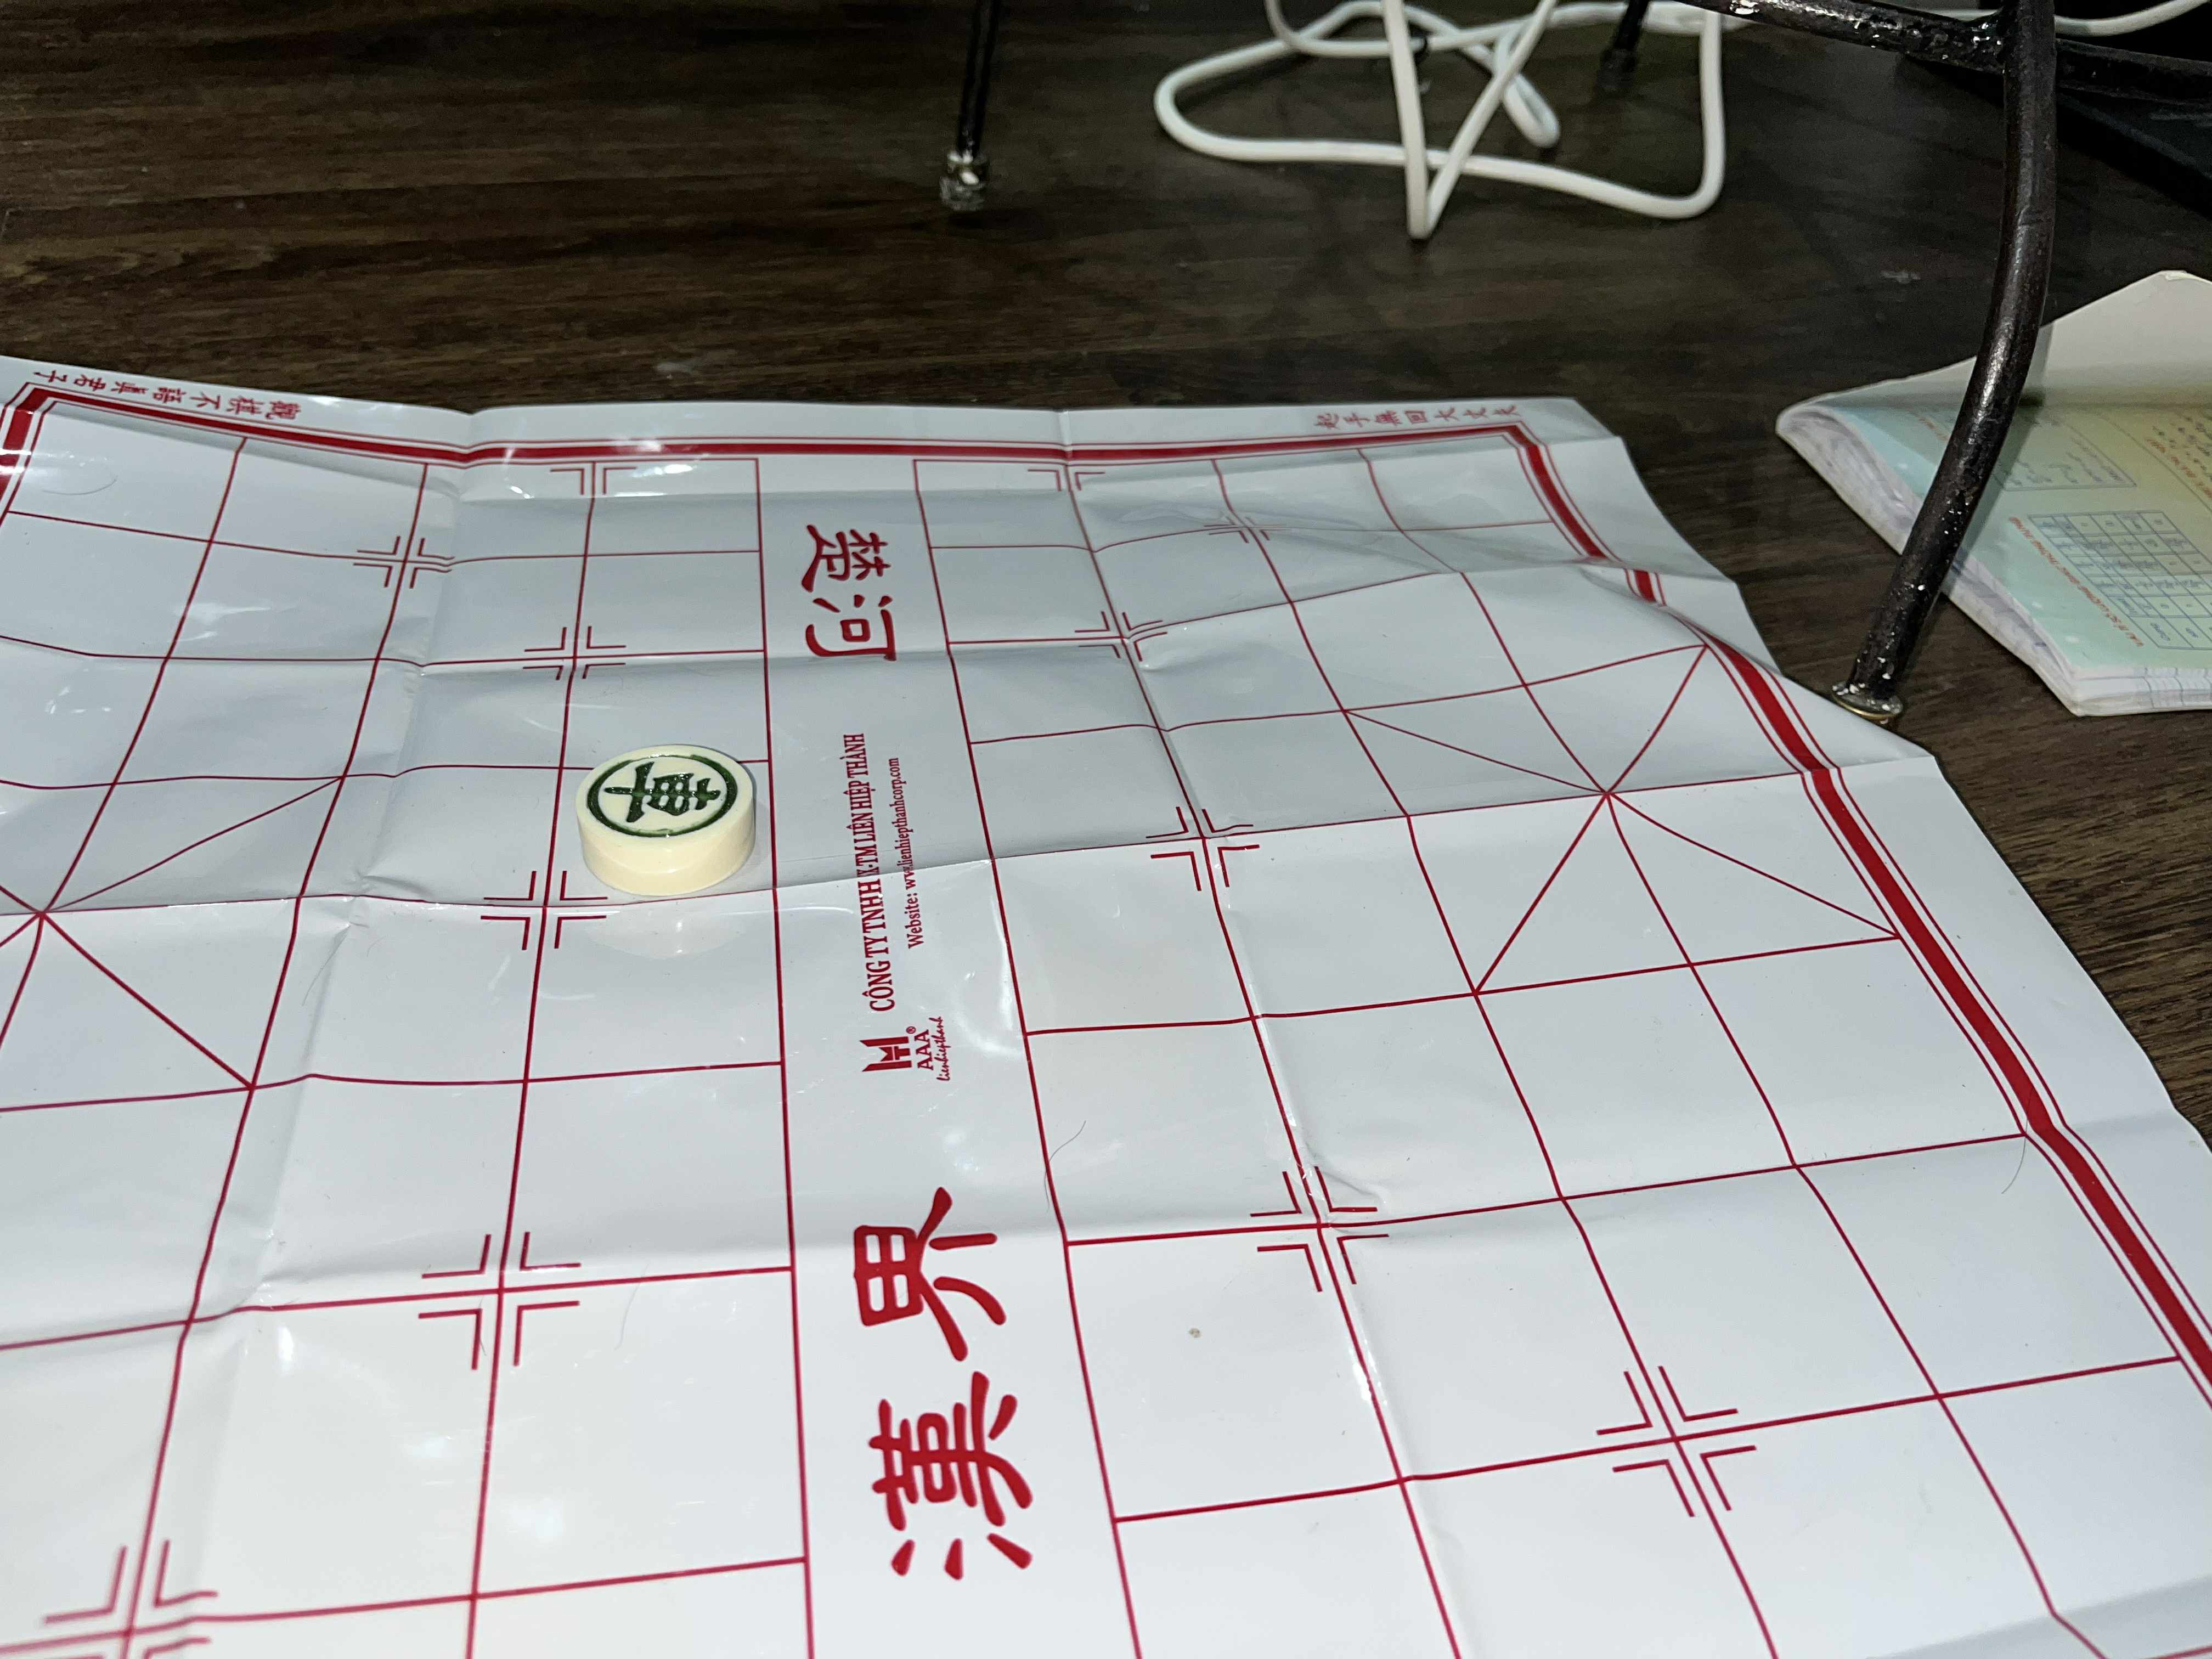black-chariot: (578, 741, 754, 849)
